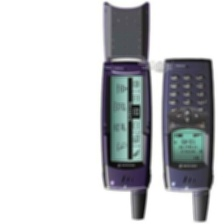phone: (159, 54, 218, 224), (95, 59, 155, 223)
